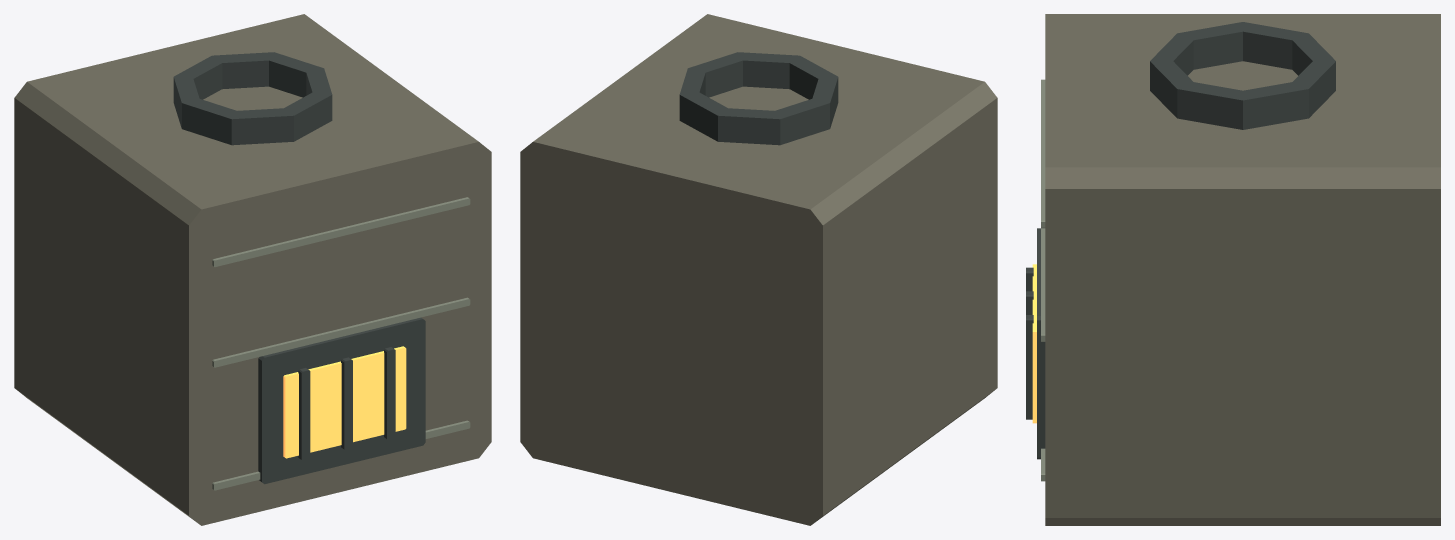
File: Smelter.gltf
The picture shows the model from 3 angles, left to right: view 1: azimuth 30°, elevation 25°; view 2: azimuth 150°, elevation 25°; view 3: azimuth 270°, elevation 25°; orthographic projection. The views are drawn at different scales.
Visible parts, largest first — view 1: Smelter; view 2: Smelter; view 3: Smelter.
Boxes of the visible parts, x1,y1,x2,y2 form: Smelter: (14,14,491,525); Smelter: (520,14,997,525); Smelter: (1026,14,1440,525).
Size of the model in its own units: 0.85 by 0.92 by 0.891.
